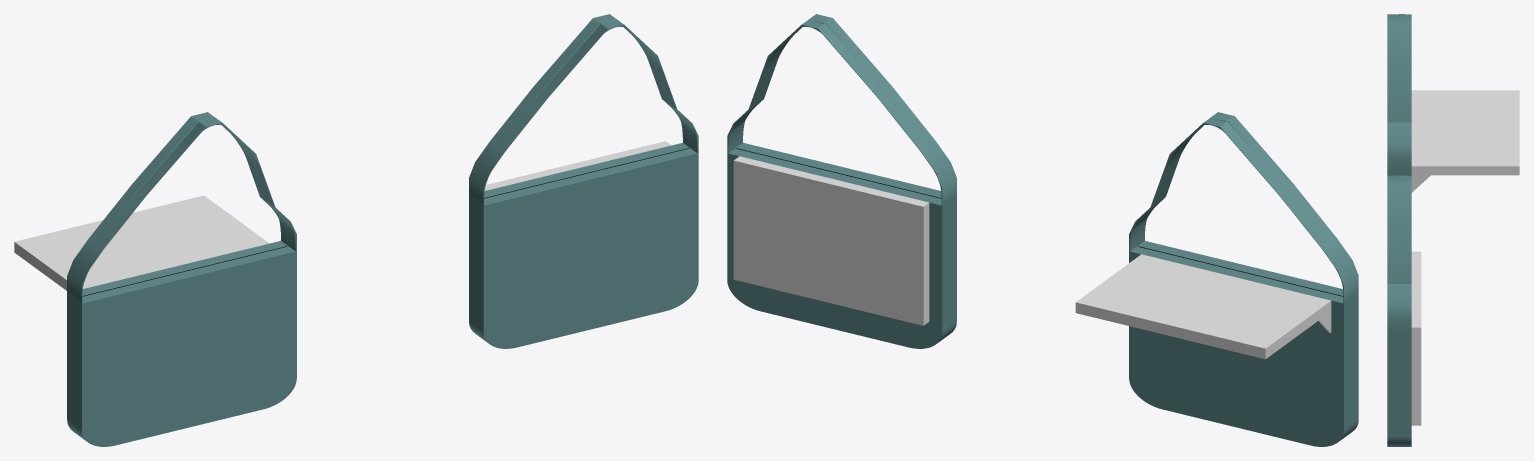
File: Bag.glb
3 views of the same model, side by side, from view 1: azimuth 30°, elevation 25°; view 2: azimuth 150°, elevation 25°; view 3: azimuth 270°, elevation 25° (orthographic). The views are drawn at different scales.
Parts seen in each view (by area): view 1: Cylinder, Cylinder.001, Cube.001, Cube; view 2: Cylinder.001, Cube, Cylinder, Cube.001; view 3: Cube.001, Cylinder, Cylinder.001, Cube, Cube.002.
Boxes of the visible parts, x1=… form: Cylinder: x1=469, y1=14, x2=698, y2=348; Cylinder.001: x1=67, y1=112, x2=296, y2=446; Cube.001: x1=14, y1=195, x2=269, y2=290; Cube: x1=484, y1=141, x2=671, y2=190; Cylinder.001: x1=1129, y1=112, x2=1358, y2=446; Cube: x1=733, y1=156, x2=929, y2=325; Cylinder: x1=727, y1=14, x2=956, y2=348; Cube.001: x1=1075, y1=254, x2=1331, y2=359; Cube.001: x1=1411, y1=90, x2=1519, y2=175; Cylinder: x1=1387, y1=175, x2=1411, y2=446; Cylinder.001: x1=1387, y1=14, x2=1411, y2=175; Cube: x1=1411, y1=251, x2=1421, y2=425; Cube.002: x1=1411, y1=175, x2=1430, y2=192.
Bounding box in the file's own units: 8.61 × 3.96 × 1.94.
